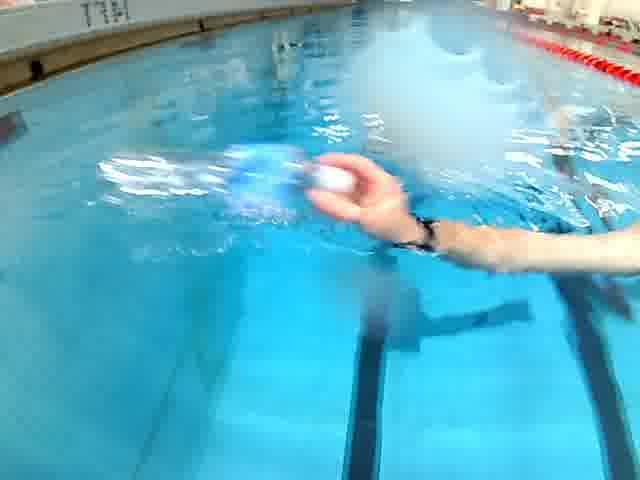Bottle: (92, 134, 362, 237)
